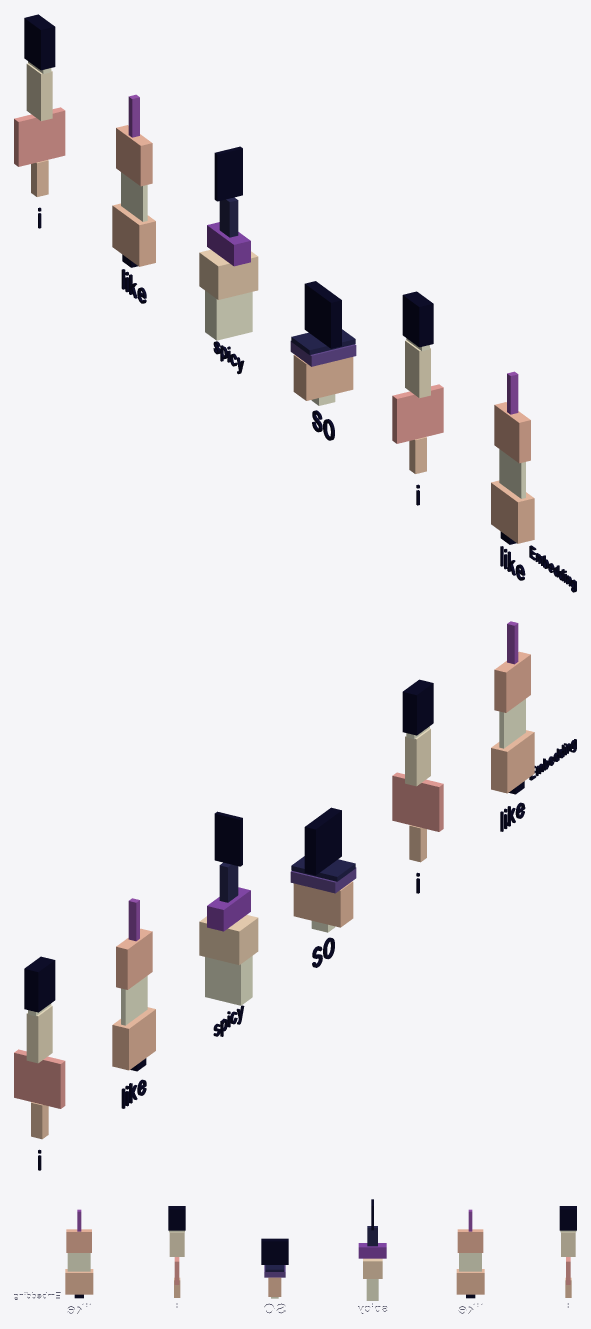
Rendered from forward-embedding.glb.
3 renders of one model, top to bottom at view 1: azimuth 30°, elevation 25°; view 2: azimuth 150°, elevation 25°; view 3: azimuth 270°, elevation 25°, orthographic. The views are drawn at different scales.
Parts seen in each view (by area): view 1: Renderer Node; view 2: Renderer Node; view 3: Renderer Node.
Boxes of the visible parts, x1,y1,x2,y2 form: Renderer Node: [14, 14, 576, 592]; Renderer Node: [14, 621, 576, 1170]; Renderer Node: [14, 1199, 576, 1313].
Size of the model in its own units: 1 by 4.4 by 20.14.
